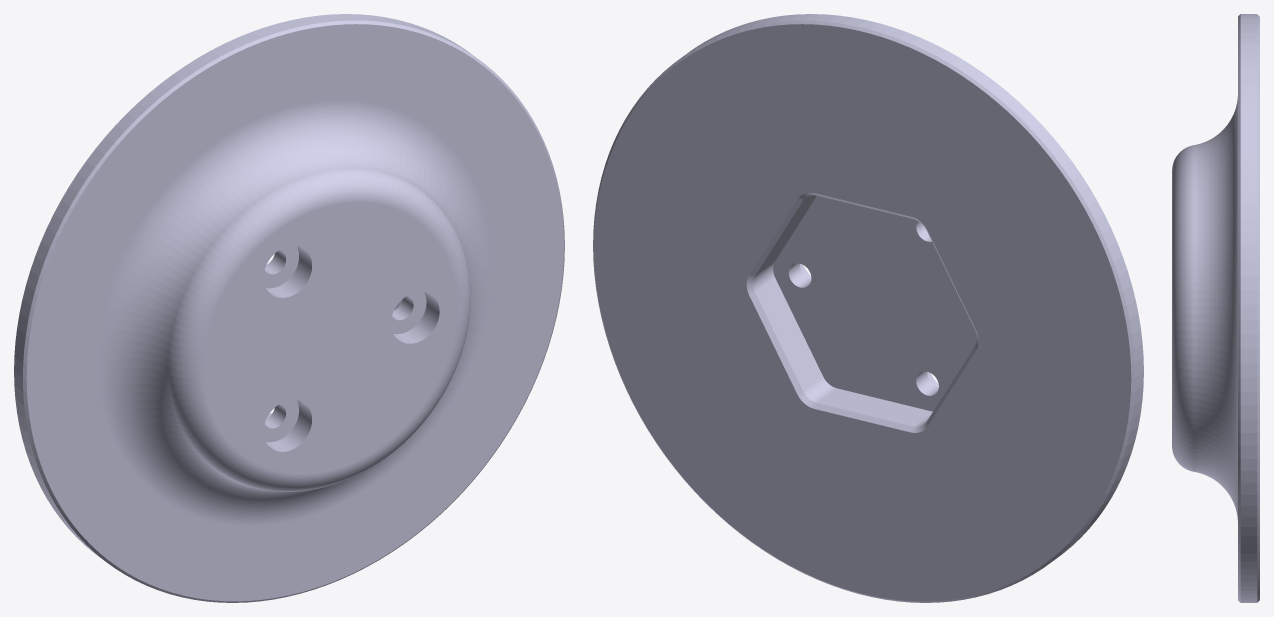
Rendered from ugv_ddsm_xd6xcexbexdfxd1xb9xbbxb720220721_i3aghm.dae.
3 renders of one model, left to right at view 1: azimuth 30°, elevation 25°; view 2: azimuth 150°, elevation 25°; view 3: azimuth 270°, elevation 25°, orthographic. The views are drawn at different scales.
Parts seen in each view (by area): view 1: node0; view 2: node0; view 3: node0.
Boxes of the visible parts, box(x1,y1,x2,y2) form: node0: box(14, 14, 564, 602); node0: box(593, 14, 1143, 602); node0: box(1172, 14, 1259, 602).
Size of the model in its own units: 0.067 by 0.01 by 0.067.
